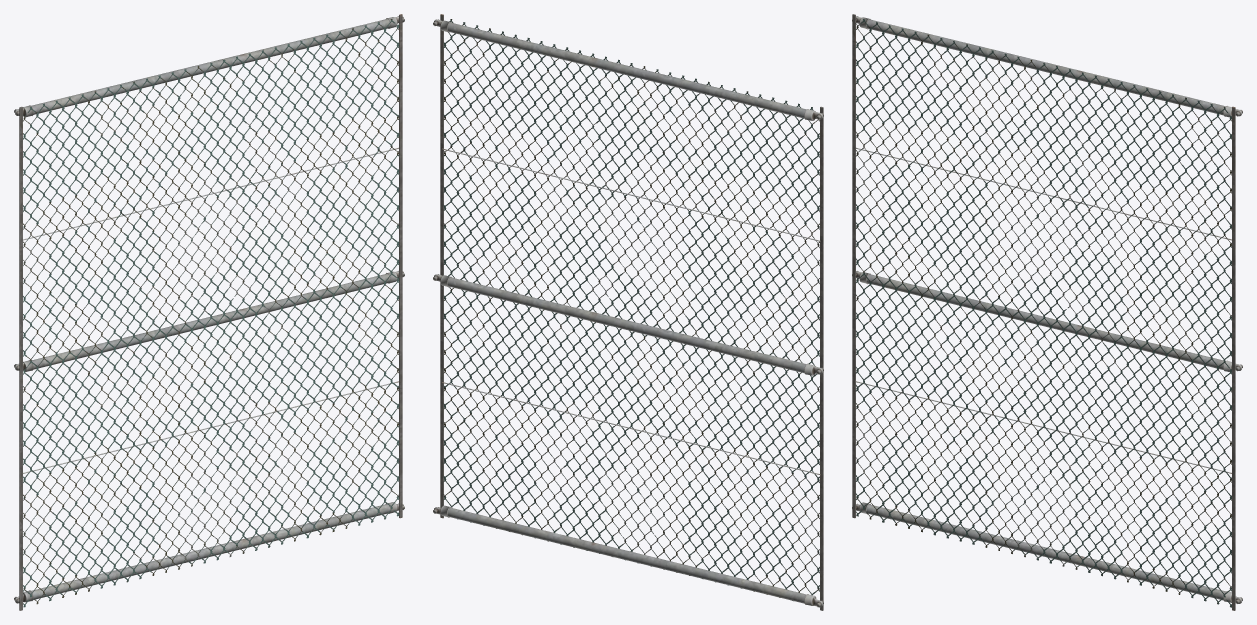
File: fence-panel.glb
3 views of the same model, side by side, from view 1: azimuth 30°, elevation 25°; view 2: azimuth 150°, elevation 25°; view 3: azimuth 330°, elevation 25° (orthographic).
Visible parts, largest first — view 1: modular_chainlink_fence_double; view 2: modular_chainlink_fence_double; view 3: modular_chainlink_fence_double.
Part boxes in pixels (x1,y1,x2,y2): modular_chainlink_fence_double: [14, 14, 404, 610]; modular_chainlink_fence_double: [433, 14, 823, 610]; modular_chainlink_fence_double: [852, 14, 1242, 610].
Bounding box in the file's own units: 1.91 × 2.37 × 0.0486.
2 materials, 2 textured.
